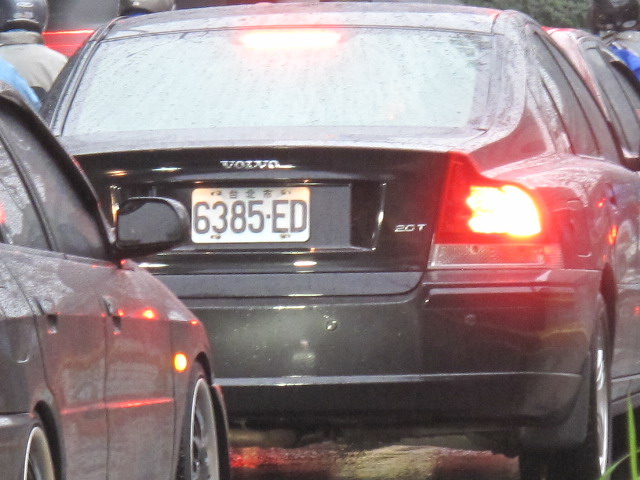plate: (187, 182, 315, 242)
